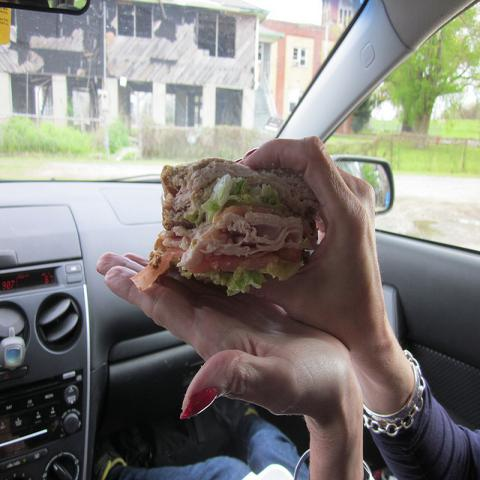car: (1, 4, 479, 475)
